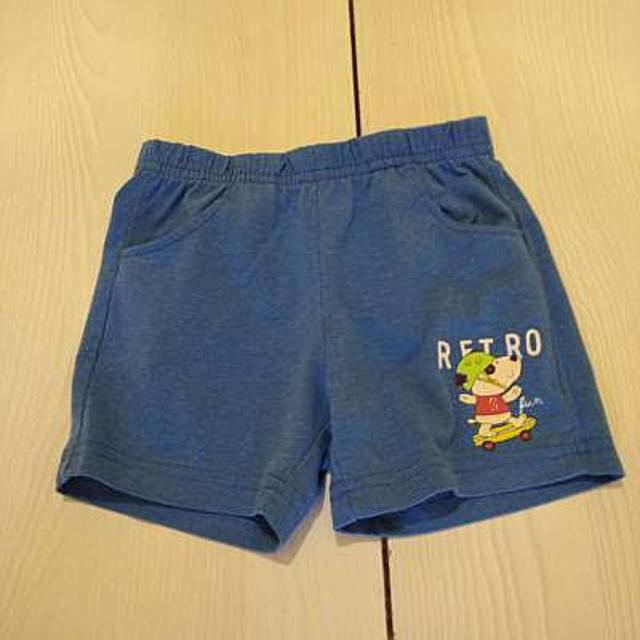SHORT: (43, 110, 634, 565)
